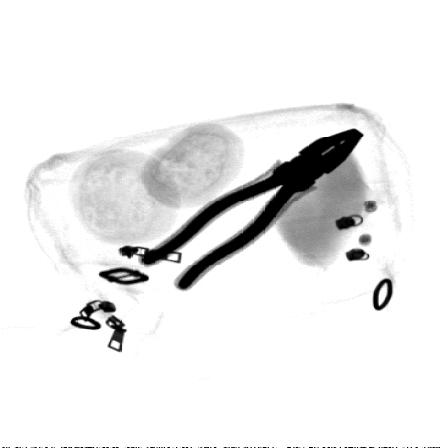Pliers: (140, 127, 366, 290)
